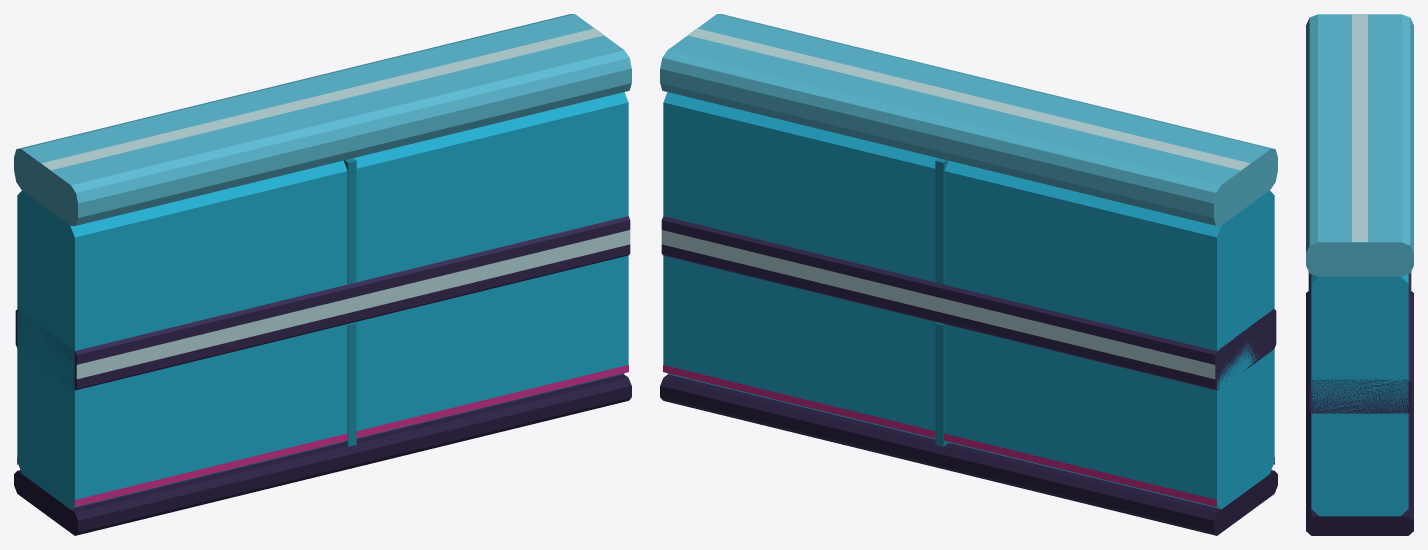
The model's file is neon-wall1.glb.
3 views of the same model, side by side, from view 1: azimuth 30°, elevation 25°; view 2: azimuth 150°, elevation 25°; view 3: azimuth 270°, elevation 25° (orthographic). The views are drawn at different scales.
Visible parts, largest first — view 1: neon-wall1; view 2: neon-wall1; view 3: neon-wall1.
Boxes of the visible parts, x1,y1,x2,y2 form: neon-wall1: (14, 14, 631, 535); neon-wall1: (660, 14, 1277, 535); neon-wall1: (1306, 14, 1413, 535).
Bounding box in the file's own units: 2 × 1.2 × 0.4.
